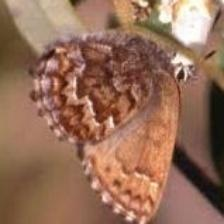butterfly: (32, 31, 195, 224)
